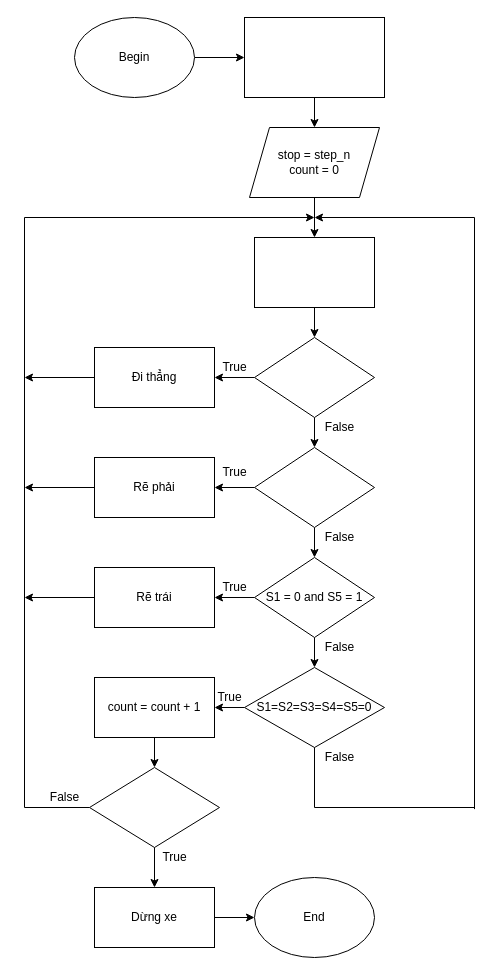
Image size: 500x975. Some labels were removed from this diagram. Here are the shapes that lost their labels. From the top down, the box of each, then its label:
(244, 16, 384, 98): Nhận chỉ thị từ GUI app (step_n, speed)
(254, 236, 374, 308): Đọc giá trị cảm biến (S1,S2,S3,S4,S5)
(254, 336, 374, 418): S3 = 0 and S1 = S5 = 1
(254, 446, 374, 528): S5 = 0 and S1 = 1
(88, 766, 220, 848): count = stop
